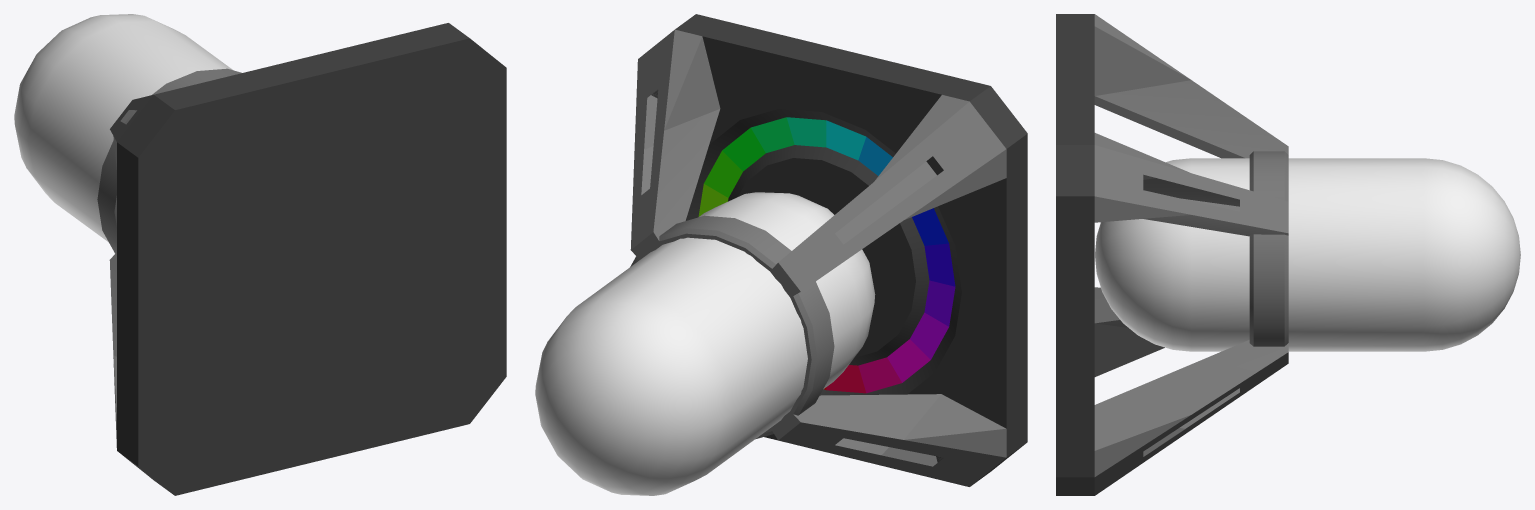
The model's file is Leg_Painter_1X1.FBX.
3 views of the same model, side by side, from view 1: azimuth 30°, elevation 25°; view 2: azimuth 150°, elevation 25°; view 3: azimuth 270°, elevation 25° (orthographic). The views are drawn at different scales.
Parts seen in each view (by area): view 1: Box004; view 2: Box004; view 3: Box004.
Boxes of the visible parts, x1,y1,x2,y2 form: Box004: (14,14,506,495); Box004: (535,14,1027,495); Box004: (1056,14,1520,495).
Size of the model in its own units: 1 by 1 by 1.2.
